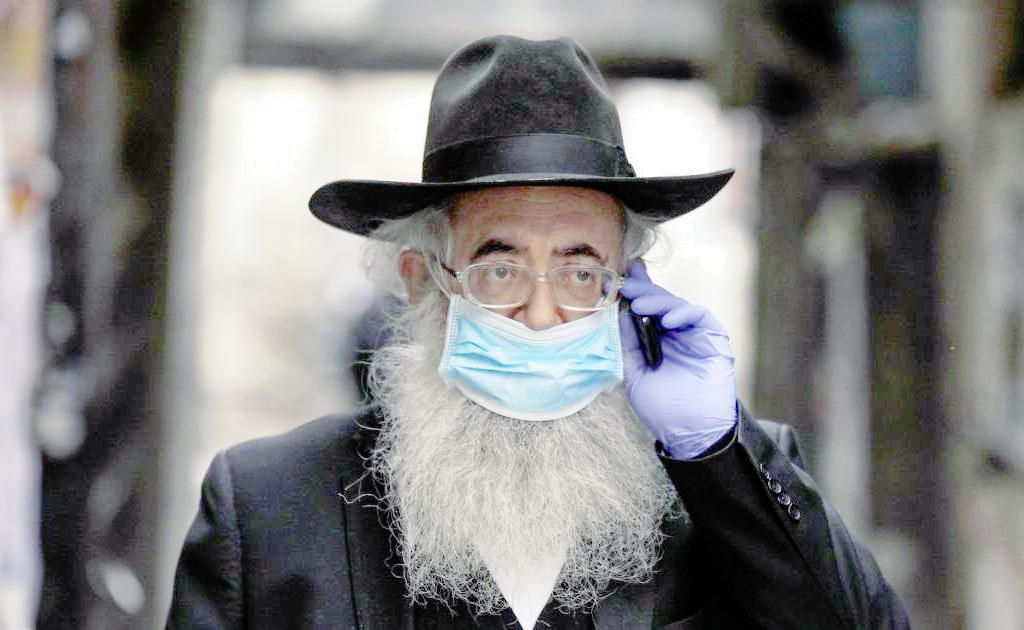mask_weared_incorrect: (401, 192, 639, 427)
